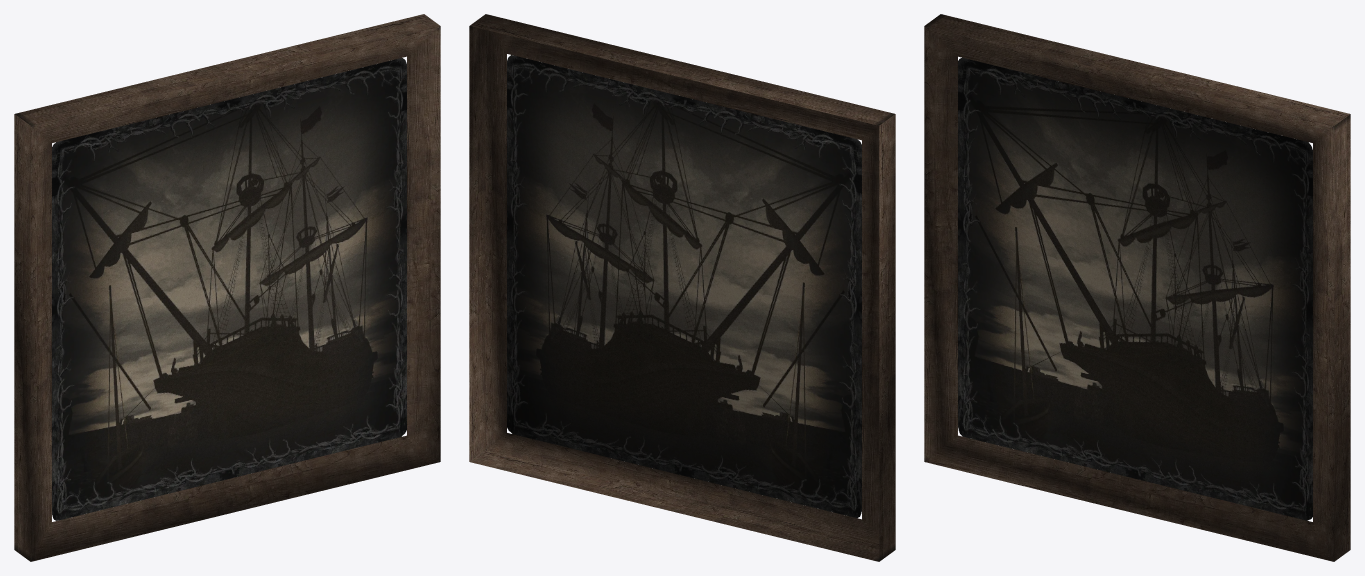
File: GS_FURNITURE_PICTURE_08_KWIATEK.glb
3 views of the same model, side by side, from view 1: azimuth 30°, elevation 25°; view 2: azimuth 150°, elevation 25°; view 3: azimuth 330°, elevation 25° (orthographic).
Visible parts, largest first — view 1: Mesh; view 2: Mesh; view 3: Mesh.
Part boxes in pixels (x1=…): Mesh: x1=14, y1=14, x2=440, y2=561; Mesh: x1=469, y1=14, x2=895, y2=561; Mesh: x1=924, y1=14, x2=1350, y2=561.
Size of the model in its own units: 0.8923 by 0.9074 by 0.0616.
Materials: 2 (2 with a texture image).
